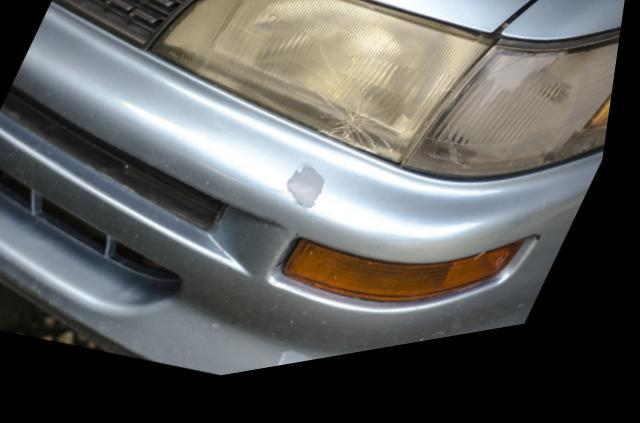lamp broken: (149, 0, 498, 182)
scratch: (291, 172, 332, 222)
